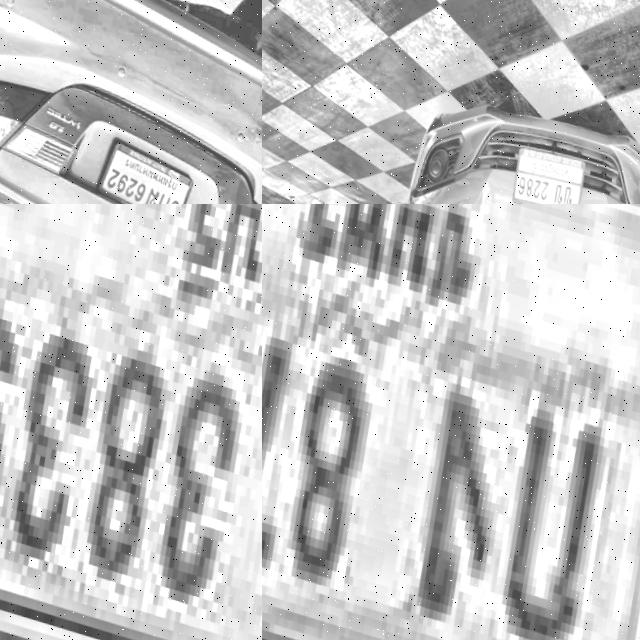license-plate: (262, 204, 640, 640), (0, 204, 262, 640), (79, 115, 198, 204), (507, 133, 588, 204)
